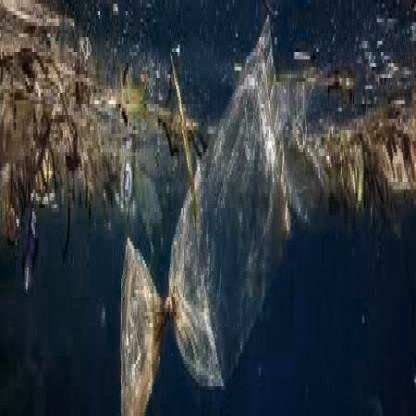pbag: (120, 11, 291, 416)
